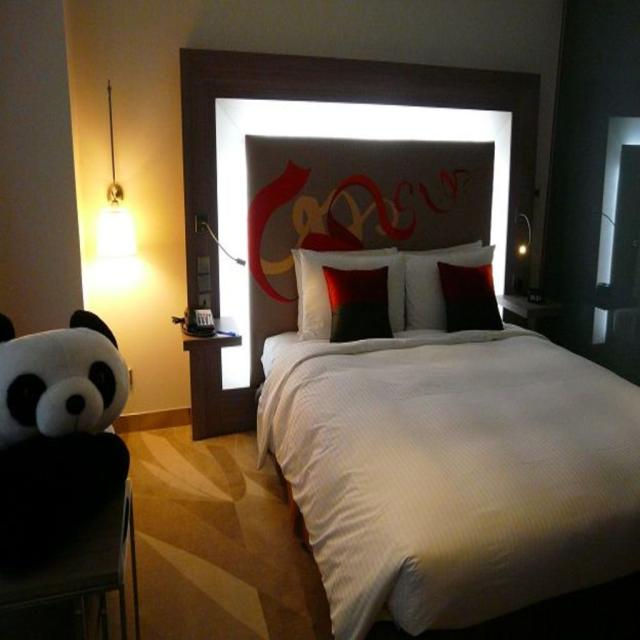panda: (0, 304, 134, 440)
